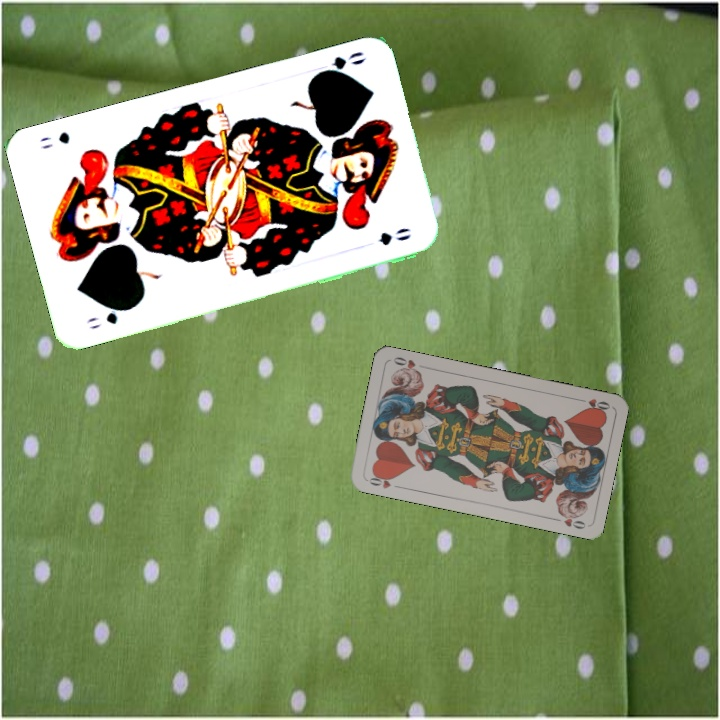GO: (311, 47, 368, 79), (82, 303, 134, 332)
HO: (572, 395, 613, 415), (365, 470, 403, 491)
